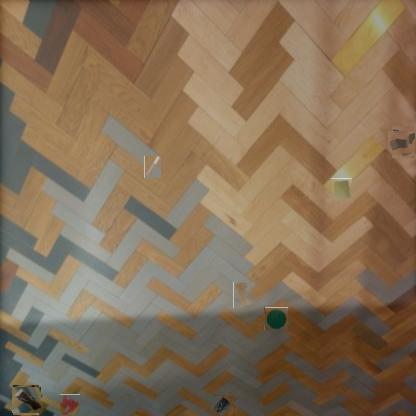dirty: (12, 386, 40, 414), (390, 129, 416, 156), (264, 307, 288, 330), (330, 178, 352, 201), (212, 394, 234, 416), (144, 156, 161, 178)
liquid: (233, 282, 256, 308), (59, 395, 81, 416)
